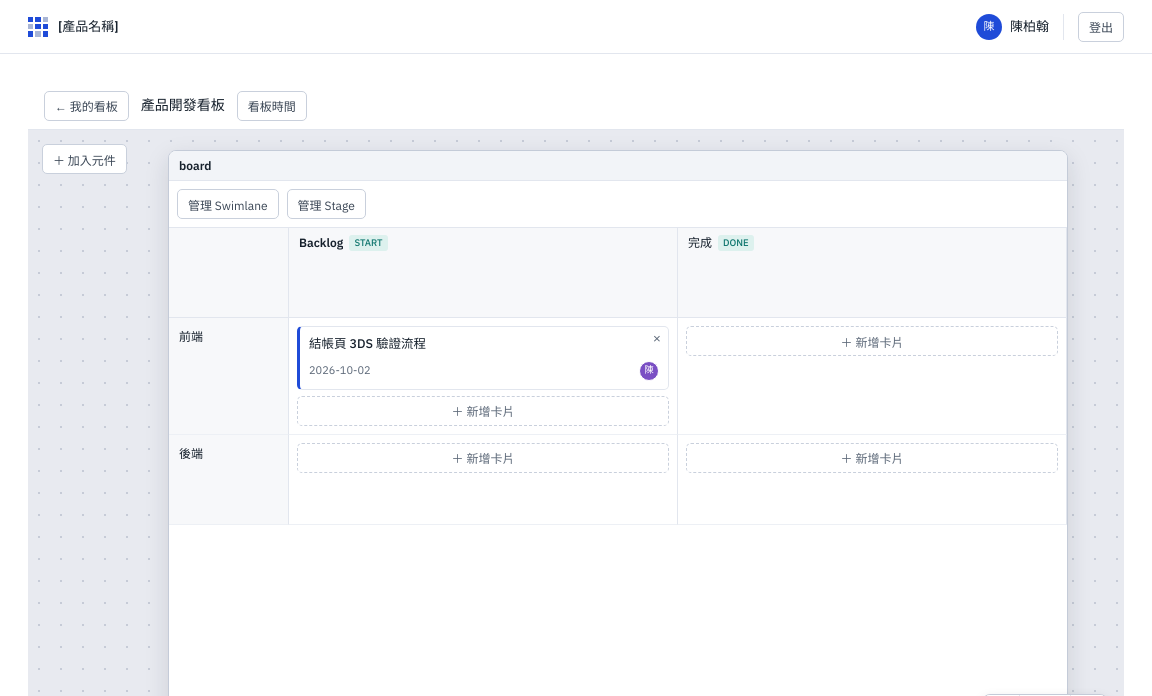
it: s-board › 點擊新增卡片開啟 s-card-add-dialog
Check: the text "結帳頁 3DS 驗證流程" is shown, box [309,335,426,351]
Click the button "＋ 新增卡片" below "2026-10-02": click(483, 410) [297,396,669,426]
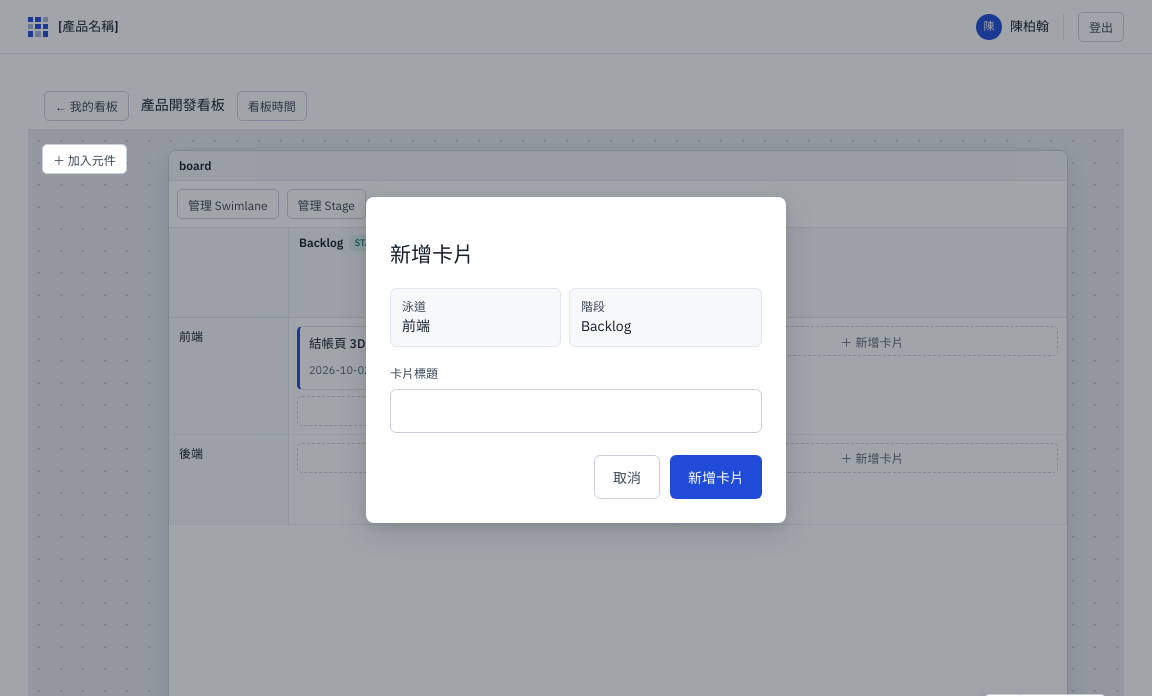
Check: the heading "新增卡片" is shown, box [390,240,474,268]
